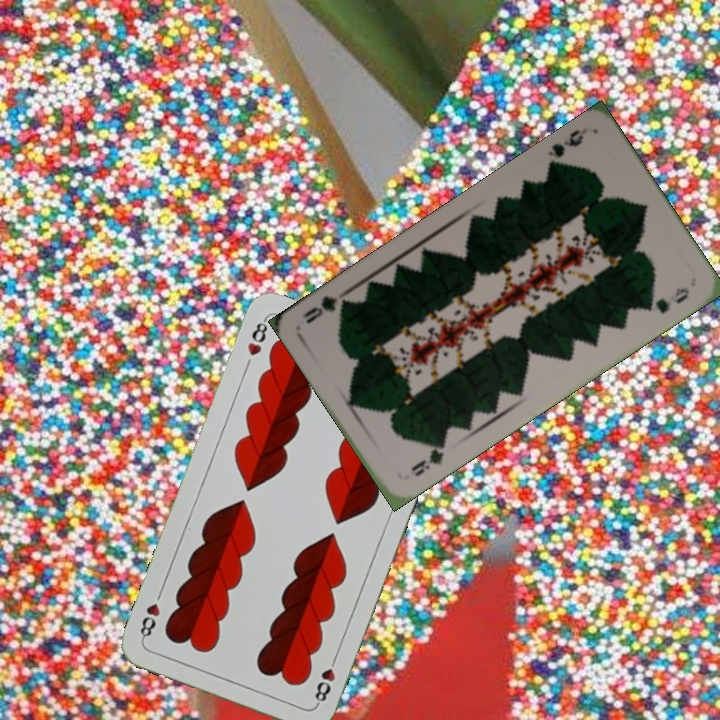G9: (543, 125, 586, 170), (407, 436, 448, 479)
H8: (310, 651, 340, 708), (243, 314, 271, 359)
